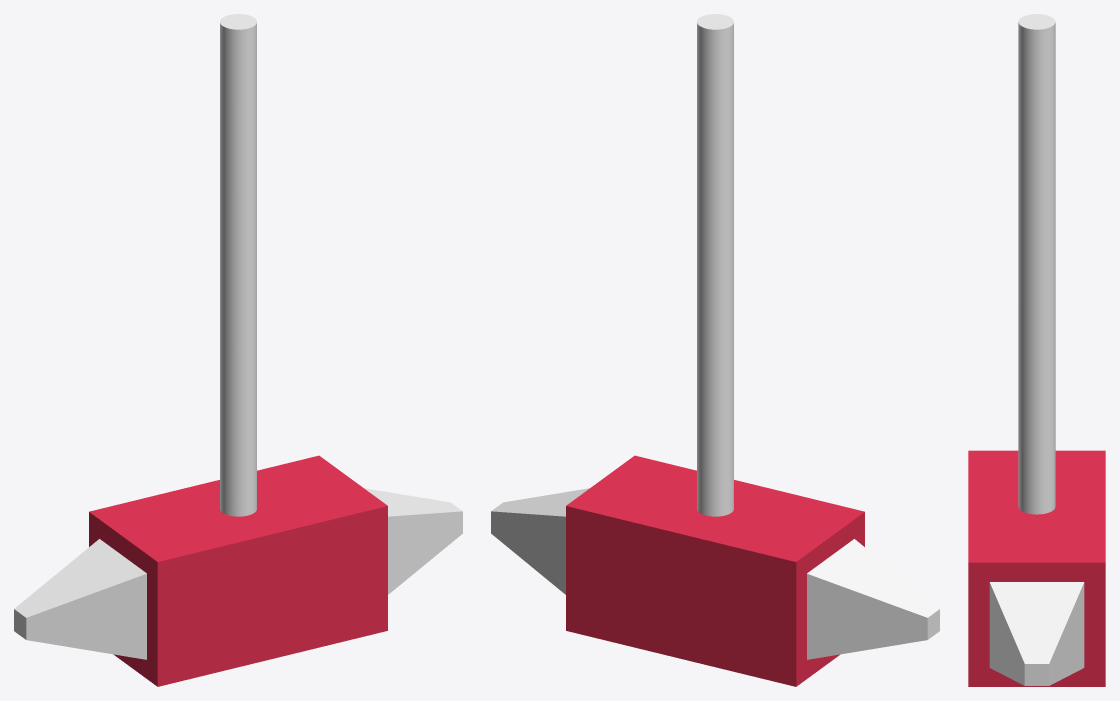
File: HammerObstacle.fbx
3 renders of one model, left to right at view 1: azimuth 30°, elevation 25°; view 2: azimuth 150°, elevation 25°; view 3: azimuth 270°, elevation 25°, orthographic.
Visible parts, largest first — view 1: Cylinder.012; view 2: Cylinder.012; view 3: Cylinder.012.
Boxes of the visible parts, x1,y1,x2,y2 form: Cylinder.012: [14, 14, 462, 686]; Cylinder.012: [491, 14, 939, 686]; Cylinder.012: [968, 14, 1105, 686].
Bounding box in the file's own units: 137 × 183 × 37.32.
Materials: 1 (1 with a texture image).
